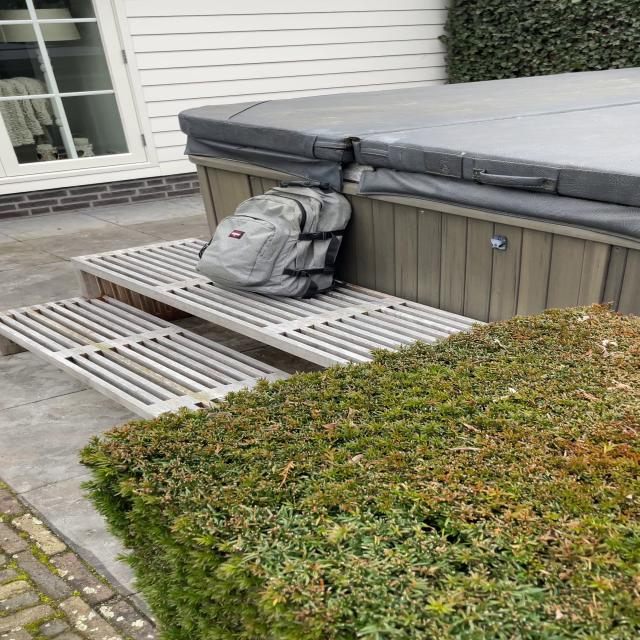backpack: (188, 176, 360, 298)
